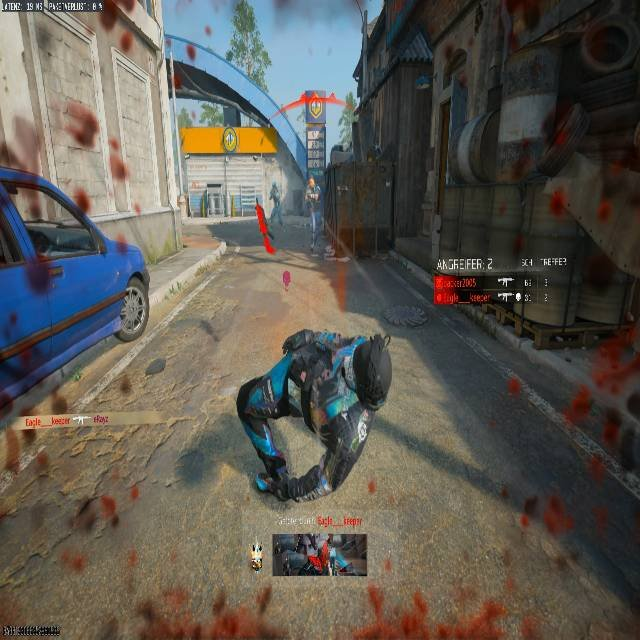head: (350, 337, 393, 408)
player: (235, 327, 393, 501), (302, 180, 326, 256)
